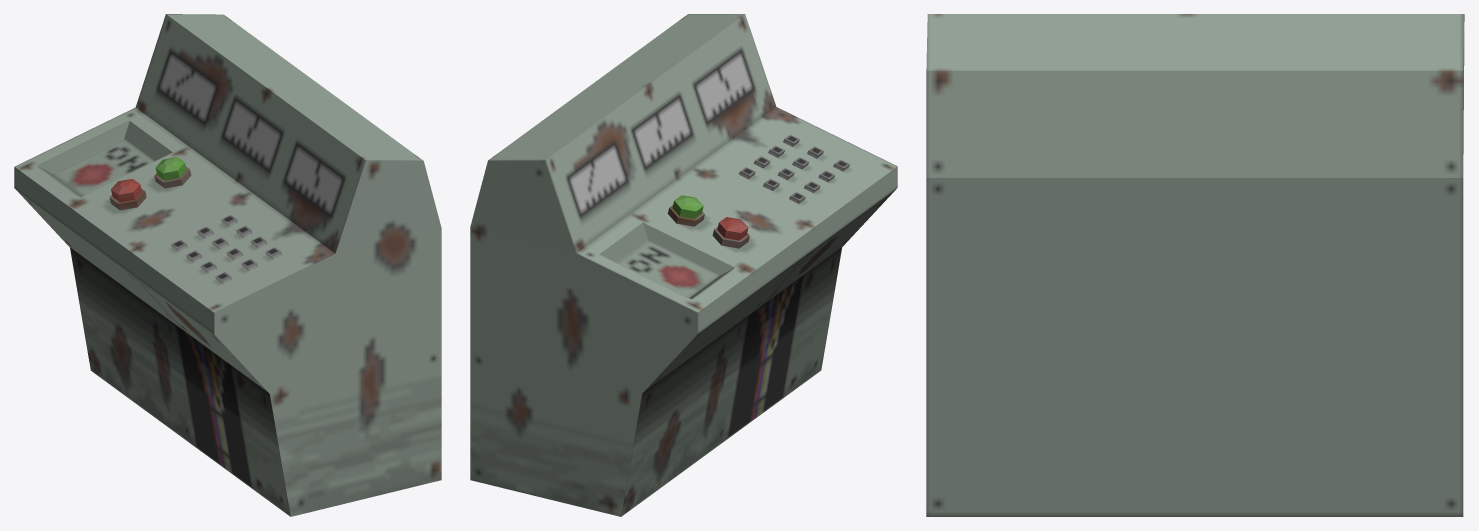
The model's file is obj_head_button.fbx.
3 views of the same model, side by side, from view 1: azimuth 30°, elevation 25°; view 2: azimuth 150°, elevation 25°; view 3: azimuth 270°, elevation 25° (orthographic). The views are drawn at different scales.
Visible parts, largest first — view 1: obj_head_button; view 2: obj_head_button; view 3: obj_head_button.
Part boxes in pixels (bbox=[...]): obj_head_button: bbox=[14, 14, 441, 516]; obj_head_button: bbox=[470, 14, 897, 516]; obj_head_button: bbox=[926, 14, 1464, 516].
Bounding box in the file's own units: 70.66 × 100 × 108.
